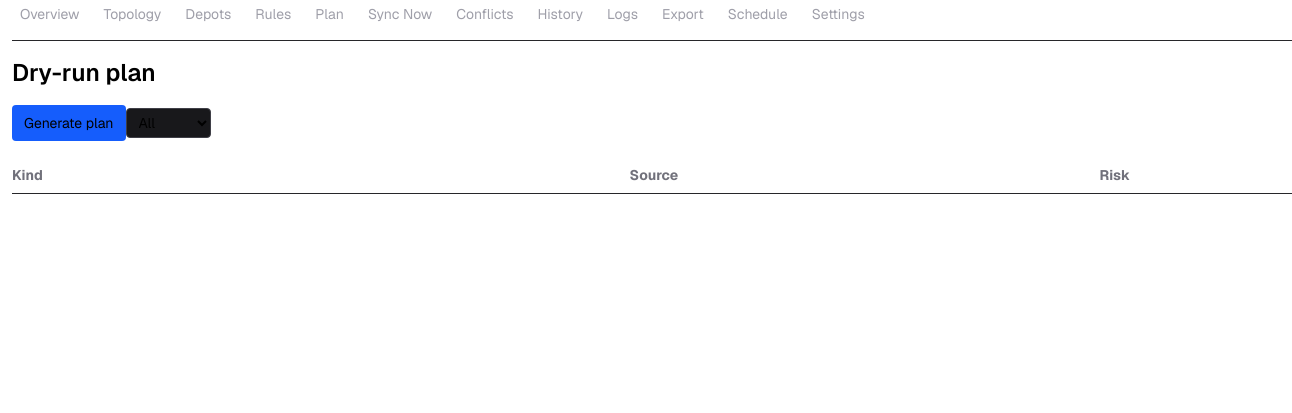
Test case: PlanViewClient [IMPL-MESH_GUI] › plan_view_displays_copy_operations
Click the button with test id "generate-plan-btn": (69, 123) [12,105,126,141]
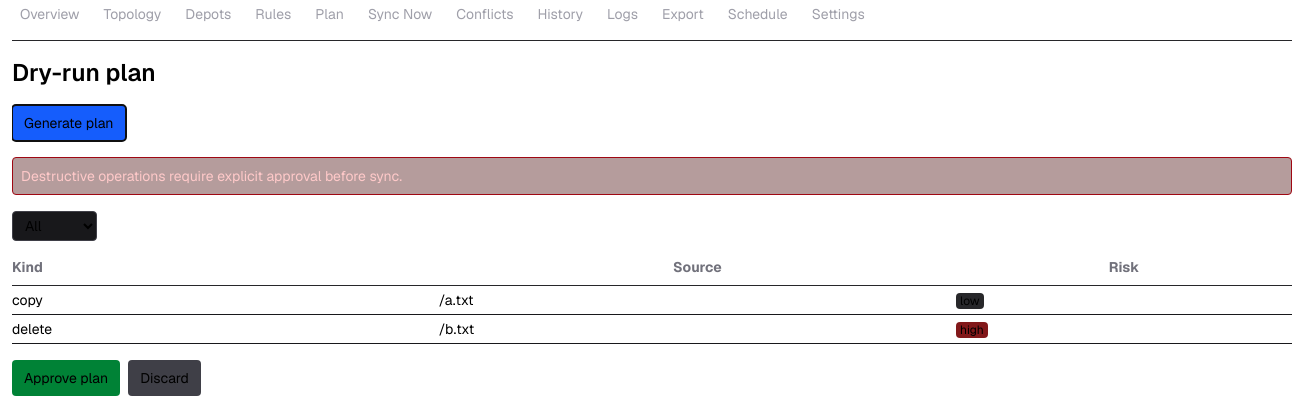
Result: the table with test id "change-set-table" shows "copy" at [12,291,43,309]
